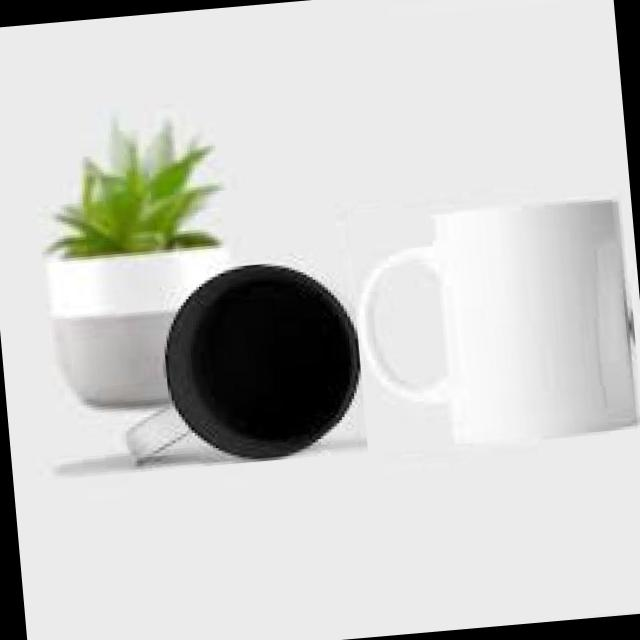Coffee Mug: (348, 195, 639, 456), (112, 254, 364, 481)
